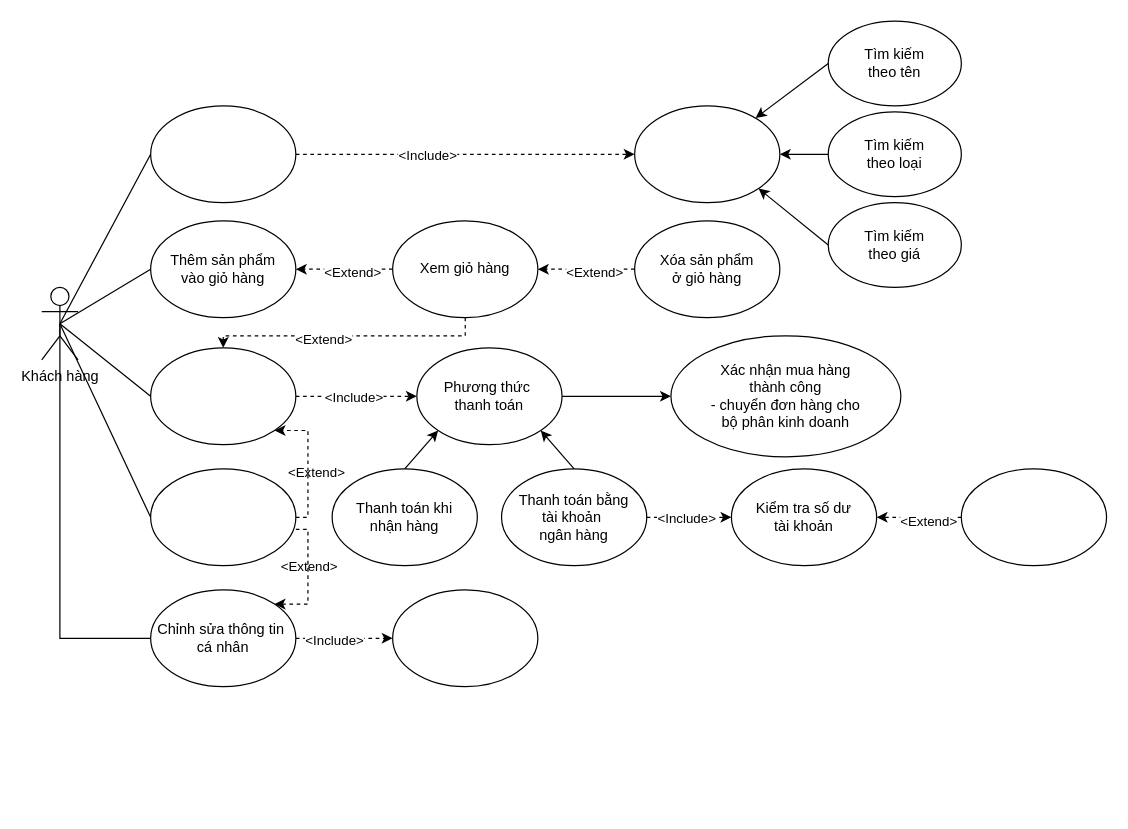
The diagram is 1128 pixels wide and 829 high, and some of its shapes have lost their labels. Here are the shapes that lost their labels. From the top down, the centre of each, then its label:
At pixel 222 154: "Xem sản phẩm".
At pixel 706 154: "Tìm kiếm sản phẩm".
At pixel 222 396: "Mua hàng".
At pixel 222 517: "Đăng nhập".
At pixel 1033 517: "Hủy mua hàng".
At pixel 464 638: "Lưu thông tin vừa thay đổi".
